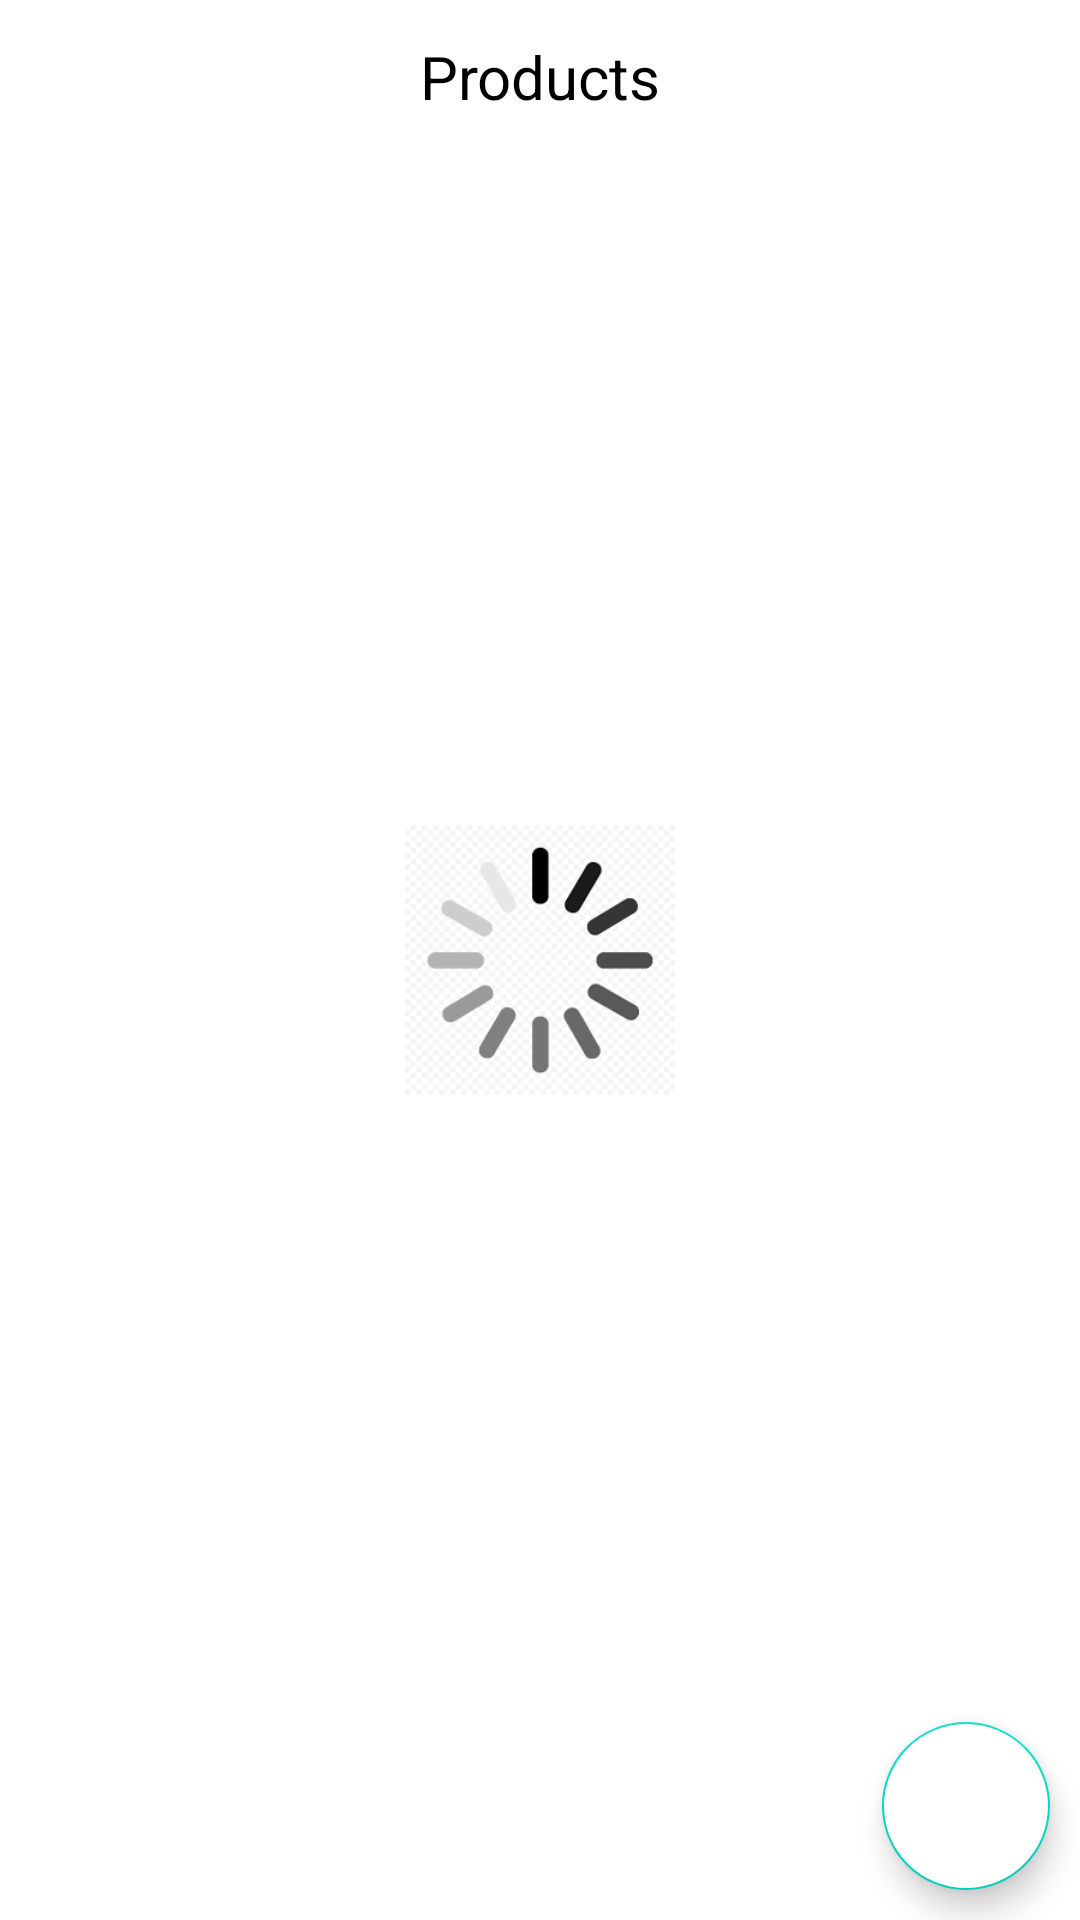

Screen size 1080*1920. Icon name, then its center in pixels as point (x, y):
progress animation: point (540, 960)
